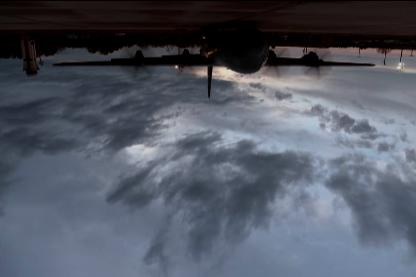Be200: (52, 20, 376, 98)
